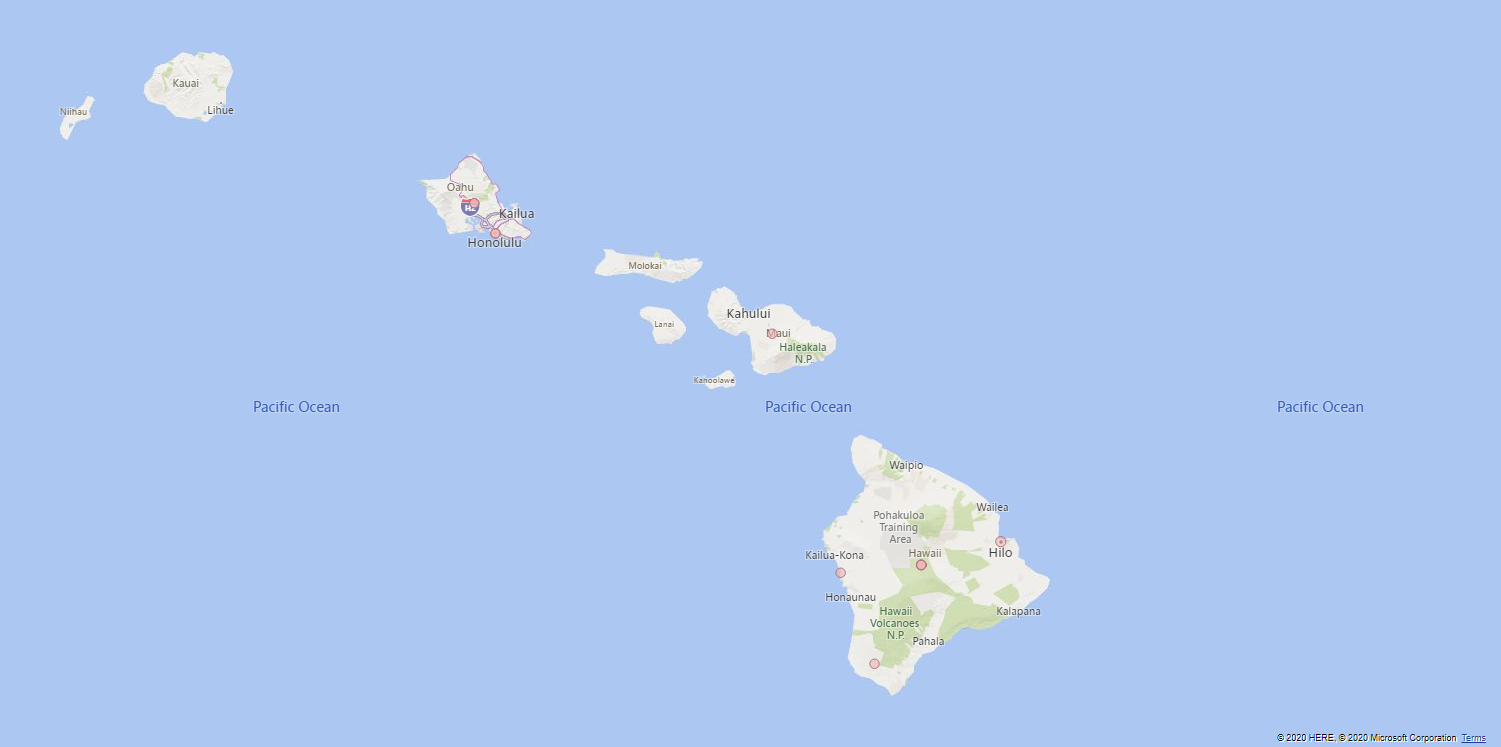

The page's visual inventory and layout, read from the dashboard file:
{"tool":"powerbi","page":{"name":"Page 1","canvas":[1280,720],"ordinal":0},"visuals":[{"type":"map","fields":{"Category":["adited location counts.Location"],"Size":["Sum(adited location counts.Count)"]},"box":[9.7,0,1270.3,720.2],"z":0}]}

Visuals, with their boxes on the page's 1280x720 design canvas (x1, y1, x2, y2). These are canvas units, not pixel positions in the 1501x747 screenshot, which may show the page scaled, cropped or inside an application window:
map - adited location counts.Location x Sum(adited location counts.Count): 10,0,1280,720
